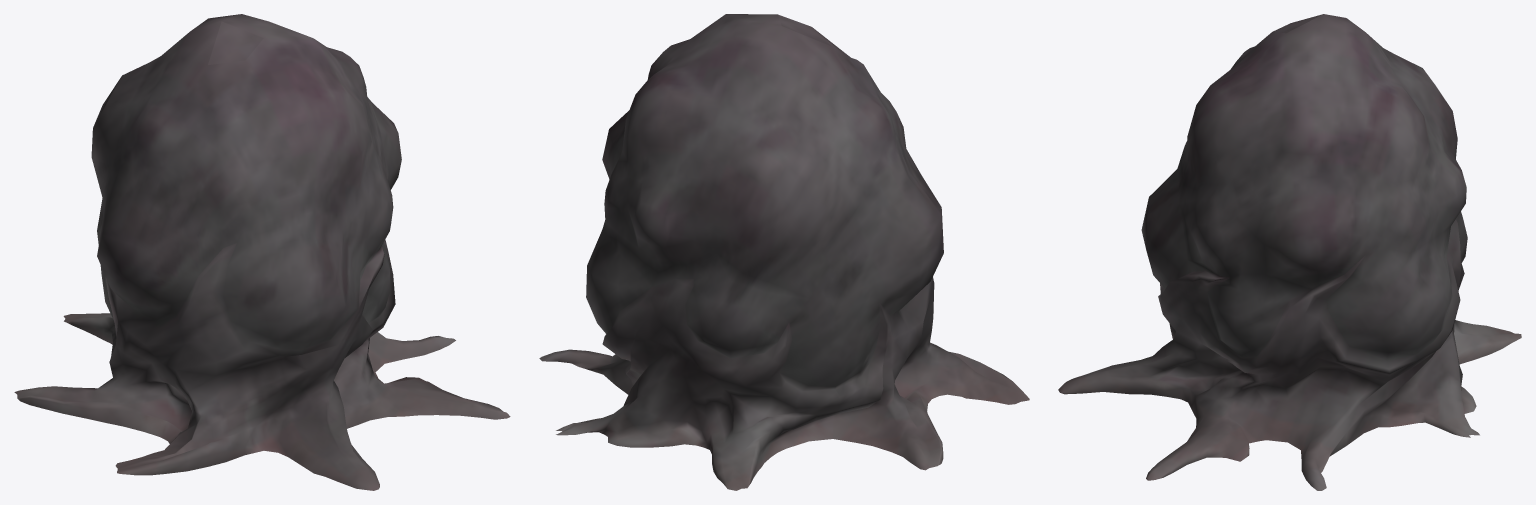
Rendered from Cocoon (24).fbx.
3 views of the same model, side by side, from view 1: azimuth 30°, elevation 25°; view 2: azimuth 150°, elevation 25°; view 3: azimuth 270°, elevation 25° (orthographic). The views are drawn at different scales.
Visible parts, largest first — view 1: Egg; view 2: Egg; view 3: Egg.
Part boxes in pixels (bbox=[...]): Egg: bbox=[14, 14, 510, 490]; Egg: bbox=[539, 14, 1029, 490]; Egg: bbox=[1058, 14, 1521, 490].
Size of the model in its own units: 1.61 by 1.43 by 1.62.
